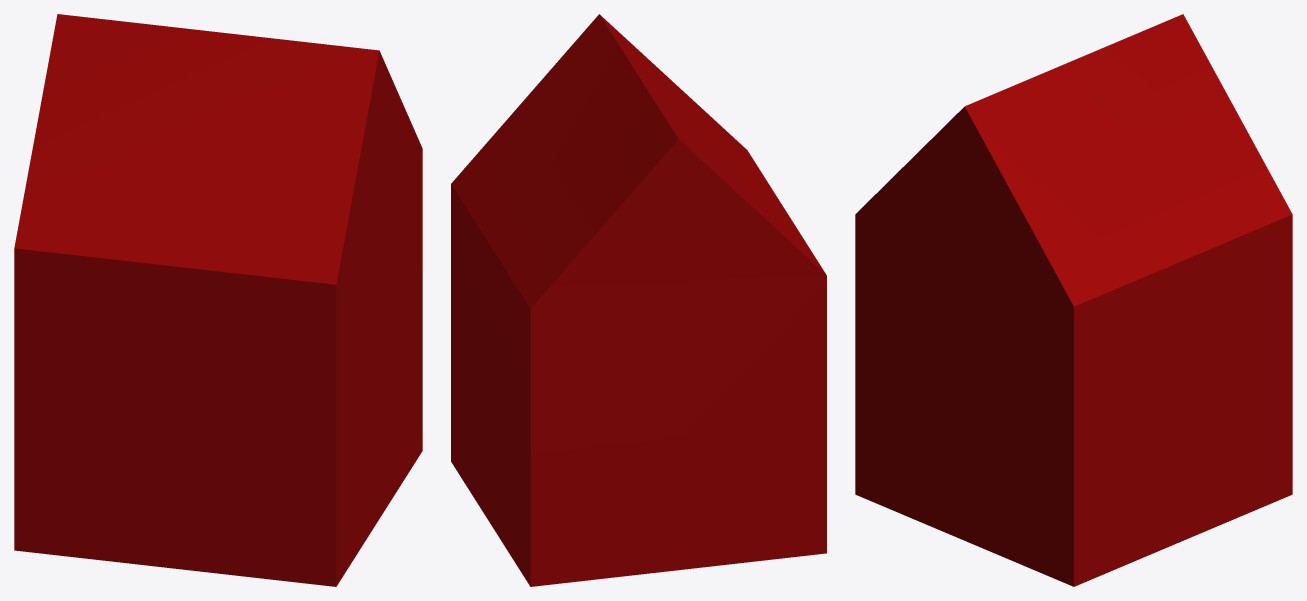
Rendered from house.glb.
3 views of the same model, side by side, from view 1: azimuth 30°, elevation 25°; view 2: azimuth 150°, elevation 25°; view 3: azimuth 270°, elevation 25° (orthographic). The views are drawn at different scales.
Parts seen in each view (by area): view 1: House; view 2: House; view 3: House.
Part boxes in pixels (left/top/right/bottom): House: left=14, top=14, right=422, bottom=586; House: left=451, top=14, right=826, bottom=586; House: left=855, top=14, right=1292, bottom=586.
Size of the model in its own units: 1.41 by 1.55 by 1.41.
